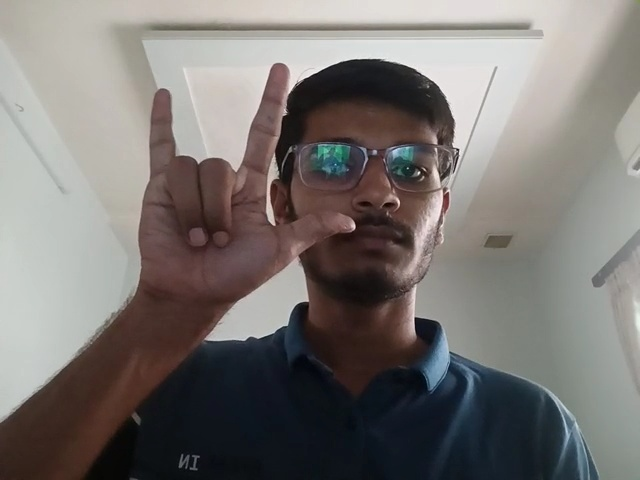I Love You: (124, 61, 357, 317)
